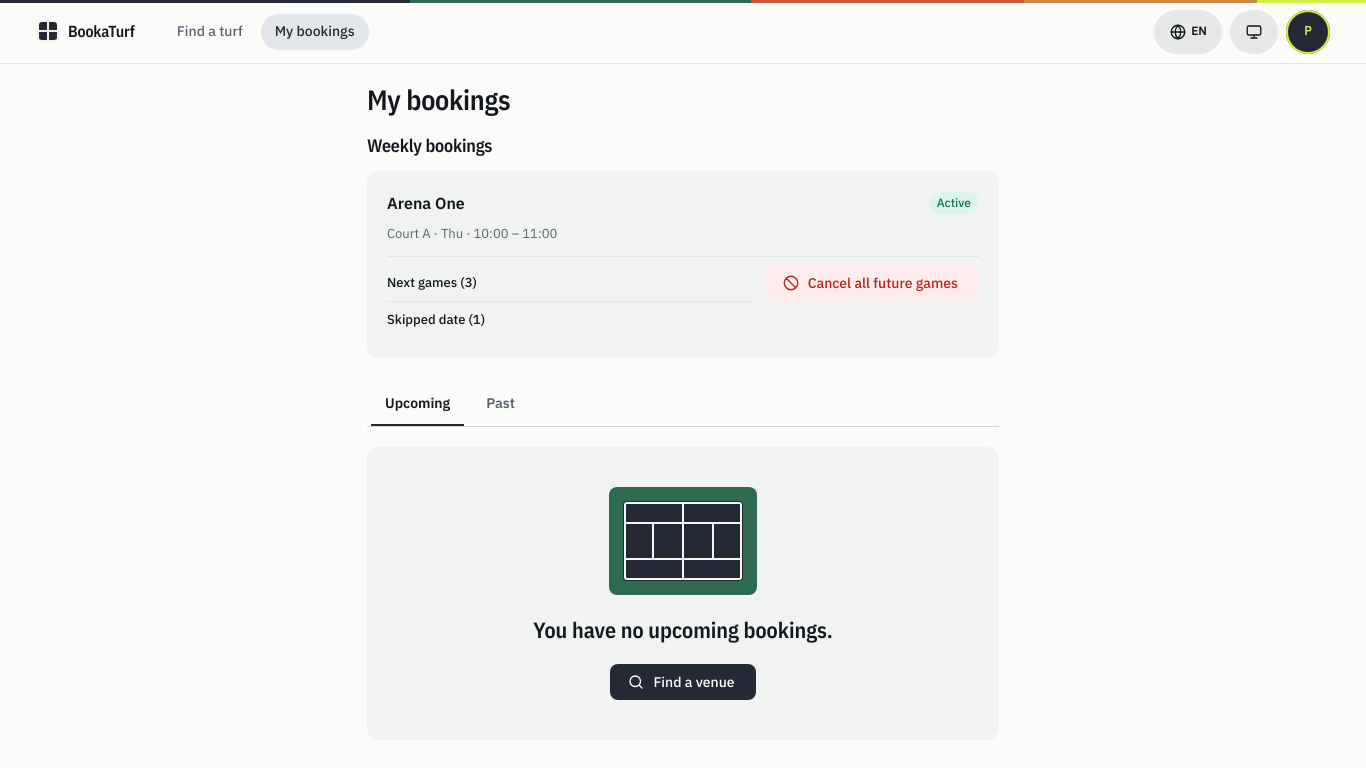
my series › cancel all future shows kept dates
This screenshot has width=1366, height=768.
Step 1. Click the button "Cancel all future games" → (872, 283), box [765, 265, 979, 301]
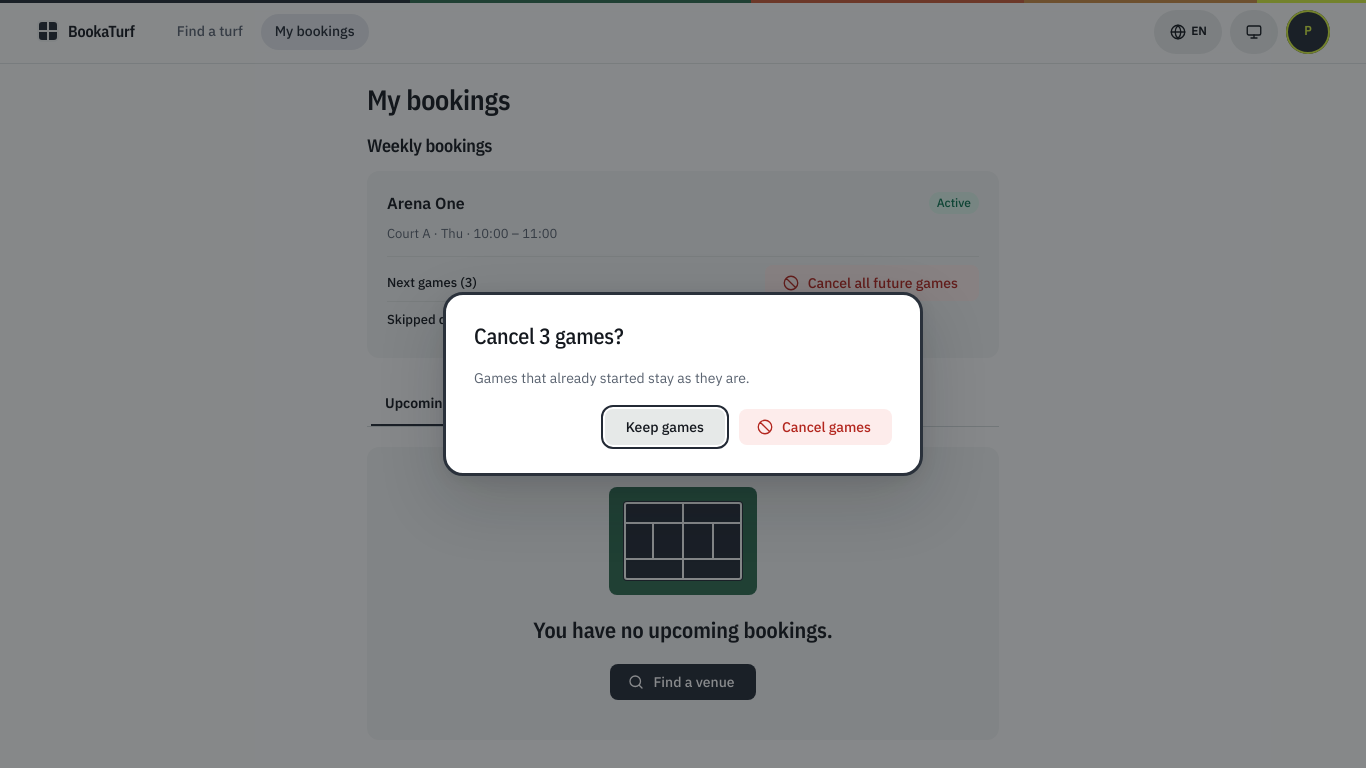
Step 2. Click the button "Cancel games" → (816, 428), box [739, 410, 892, 446]
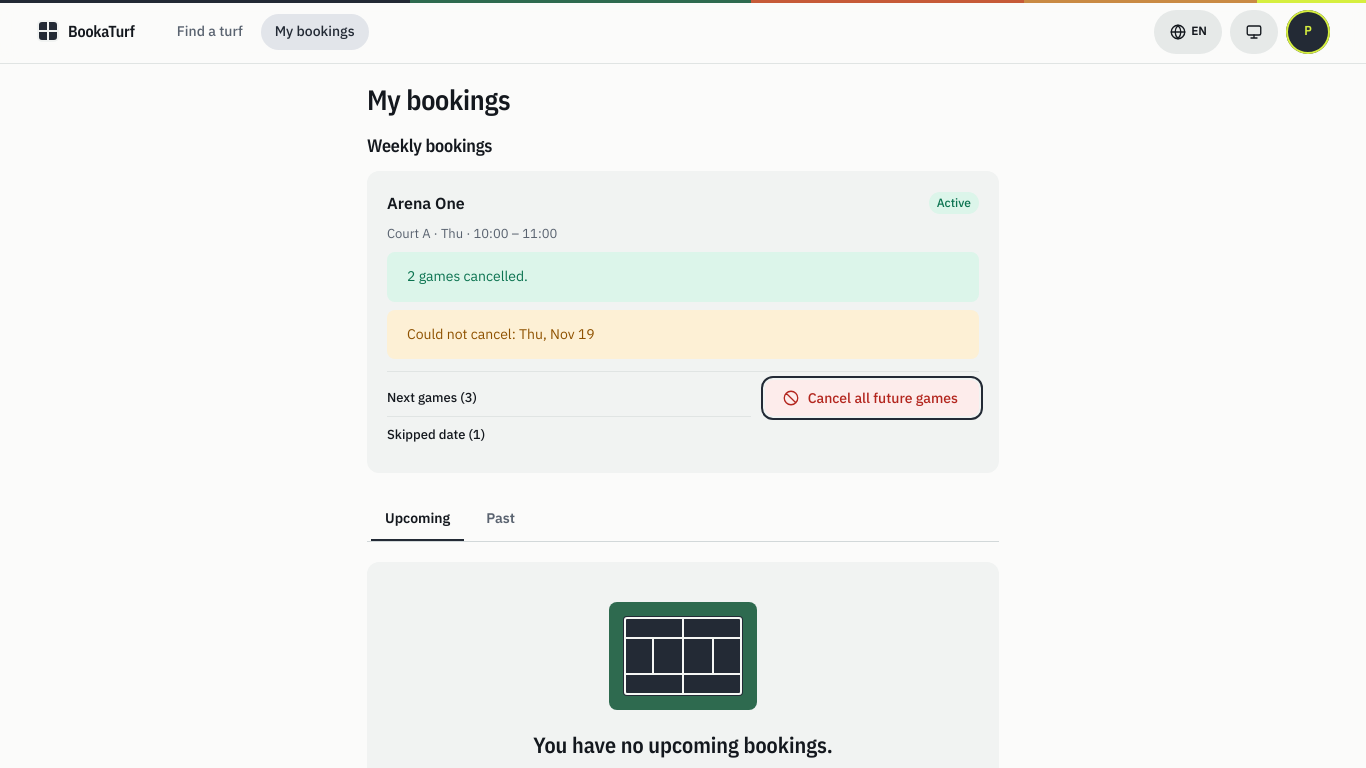
Check: the text "Could not cancel: Thu, Nov 19" is shown, box [387, 310, 979, 359]
